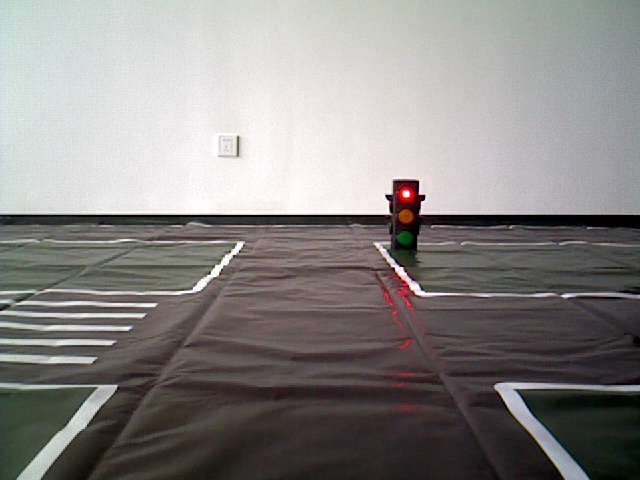red: (394, 180, 419, 254)
